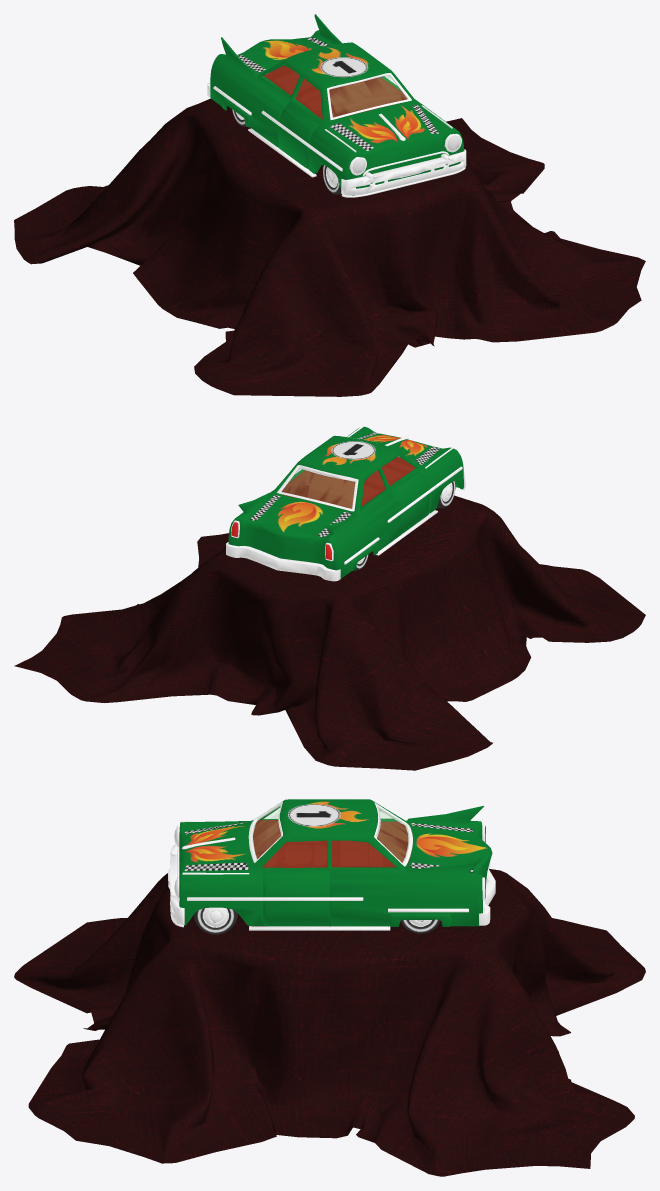
The model's file is ToyCar.glb.
3 renders of one model, top to bottom at view 1: azimuth 30°, elevation 25°; view 2: azimuth 150°, elevation 25°; view 3: azimuth 270°, elevation 25°, orthographic. The views are drawn at different scales.
Parts seen in each view (by area): view 1: Fabric, ToyCar, Glass; view 2: Fabric, ToyCar, Glass; view 3: Fabric, ToyCar, Glass.
Part boxes in pixels (x1,y1,x2,y2): Fabric: [14, 98, 645, 396]; ToyCar: [207, 14, 466, 197]; Glass: [329, 75, 407, 116]; Fabric: [14, 495, 645, 770]; ToyCar: [226, 425, 465, 581]; Glass: [282, 468, 354, 508]; Fabric: [14, 869, 645, 1176]; ToyCar: [168, 799, 495, 934]; Glass: [252, 806, 409, 862].
Size of the model in its own units: 0.0734 by 0.0288 by 0.074.
Materials: 3 (2 with a texture image).
